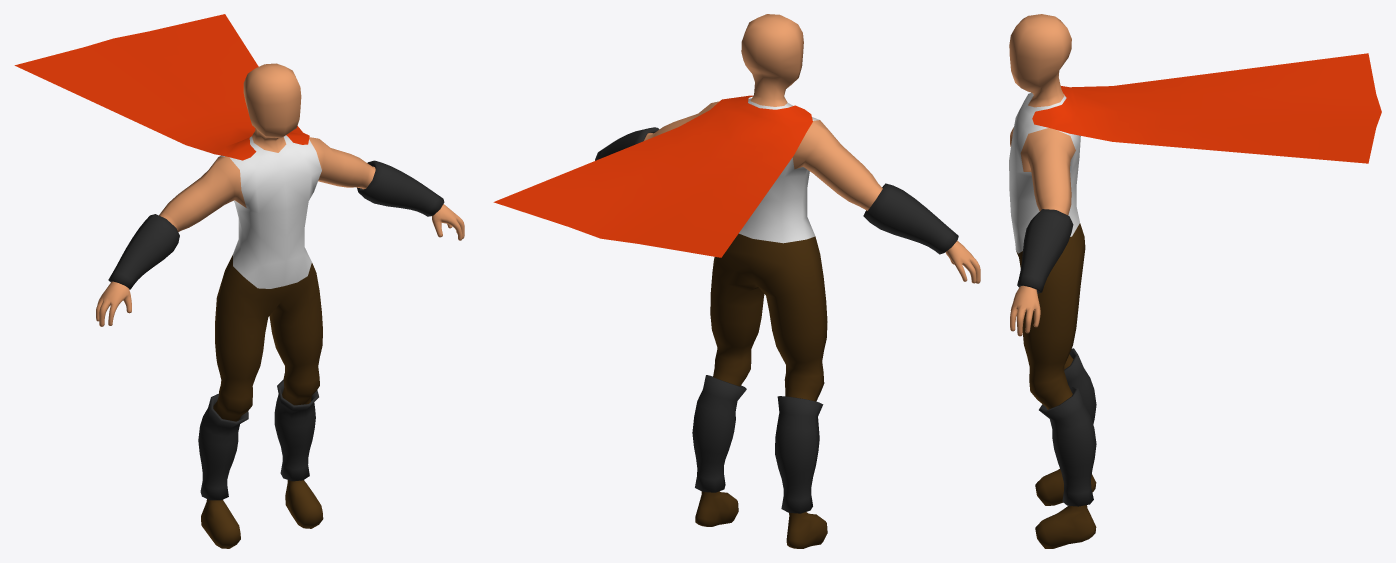
Rendered from Sk_hero.fbx.
The picture shows the model from 3 angles, left to right: view 1: azimuth 30°, elevation 25°; view 2: azimuth 150°, elevation 25°; view 3: azimuth 270°, elevation 25°; orthographic projection. The views are drawn at different scales.
Parts seen in each view (by area): view 1: Cube.005, Cube.003, Cube.001; view 2: Cube.005, Cube.003, Cube.001; view 3: Cube.003, Cube.005, Cube.001.
Part boxes in pixels (bbox=[...]): Cube.005: bbox=[96, 63, 464, 548]; Cube.003: bbox=[14, 14, 309, 160]; Cube.001: bbox=[108, 160, 444, 500]; Cube.005: bbox=[644, 14, 980, 548]; Cube.003: bbox=[493, 95, 812, 257]; Cube.001: bbox=[595, 127, 958, 513]; Cube.003: bbox=[1032, 53, 1381, 163]; Cube.005: bbox=[1009, 14, 1096, 548]; Cube.001: bbox=[1017, 209, 1096, 506].
Bounding box in the file's own units: 139 × 172 × 115.
